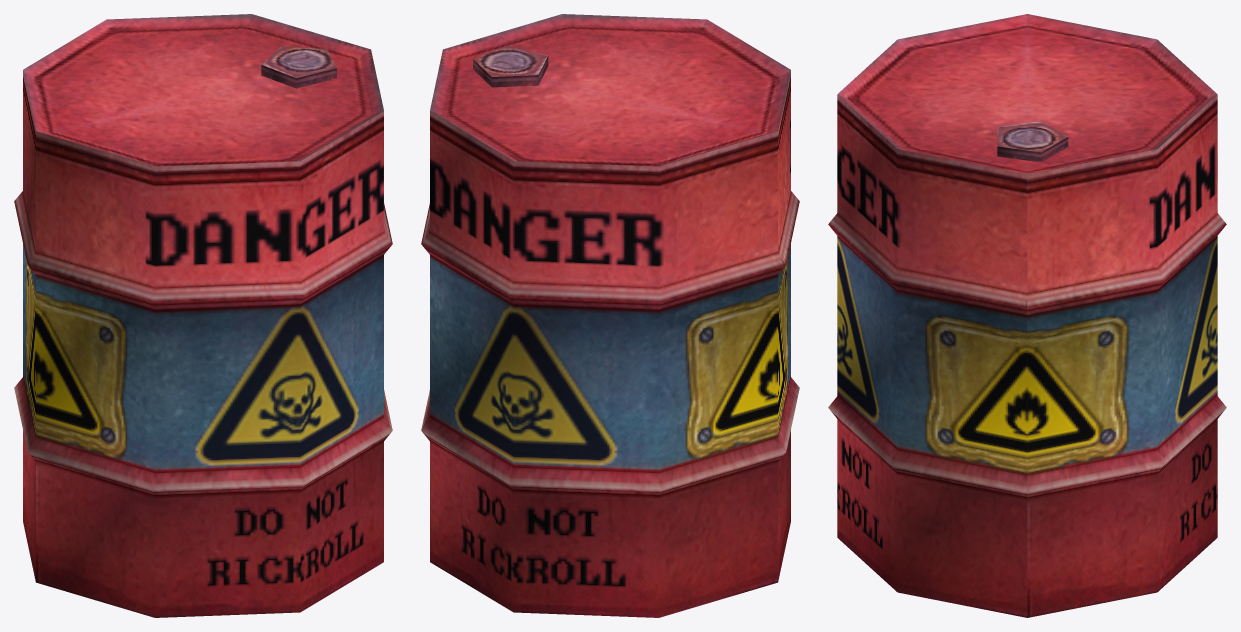
The model's file is FPS_yanti_youtong.FBX.
3 renders of one model, left to right at view 1: azimuth 30°, elevation 25°; view 2: azimuth 150°, elevation 25°; view 3: azimuth 270°, elevation 25°, orthographic.
Parts seen in each view (by area): view 1: FPS_evn_yanti_youtong; view 2: FPS_evn_yanti_youtong; view 3: FPS_evn_yanti_youtong.
Boxes of the visible parts, x1,y1,x2,y2 form: FPS_evn_yanti_youtong: (14,14,392,617); FPS_evn_yanti_youtong: (421,14,799,617); FPS_evn_yanti_youtong: (828,14,1226,617).
Size of the model in its own units: 97.67 by 121 by 97.72.
